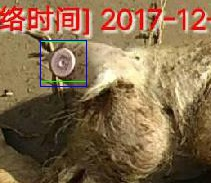text: (40, 41, 86, 81)
